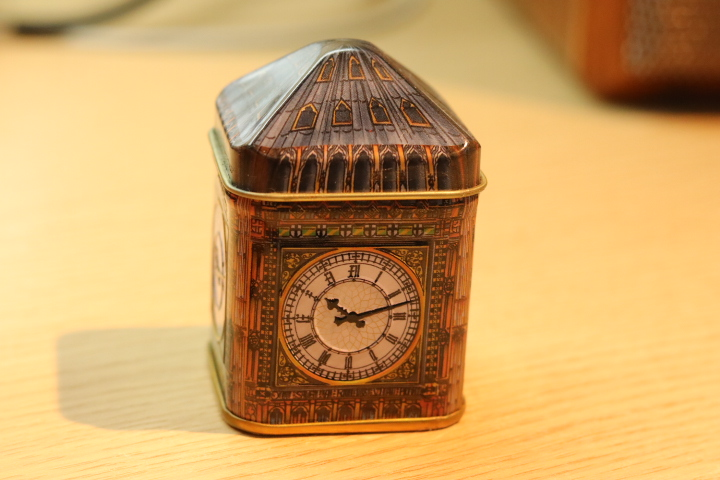Big Ben: (183, 29, 497, 449)
